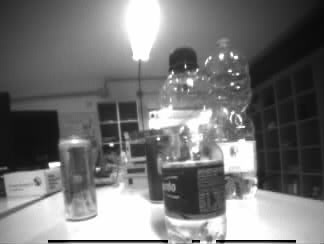Bottle: (153, 46, 227, 243), (207, 38, 257, 196)
Tin can: (57, 137, 101, 221)
